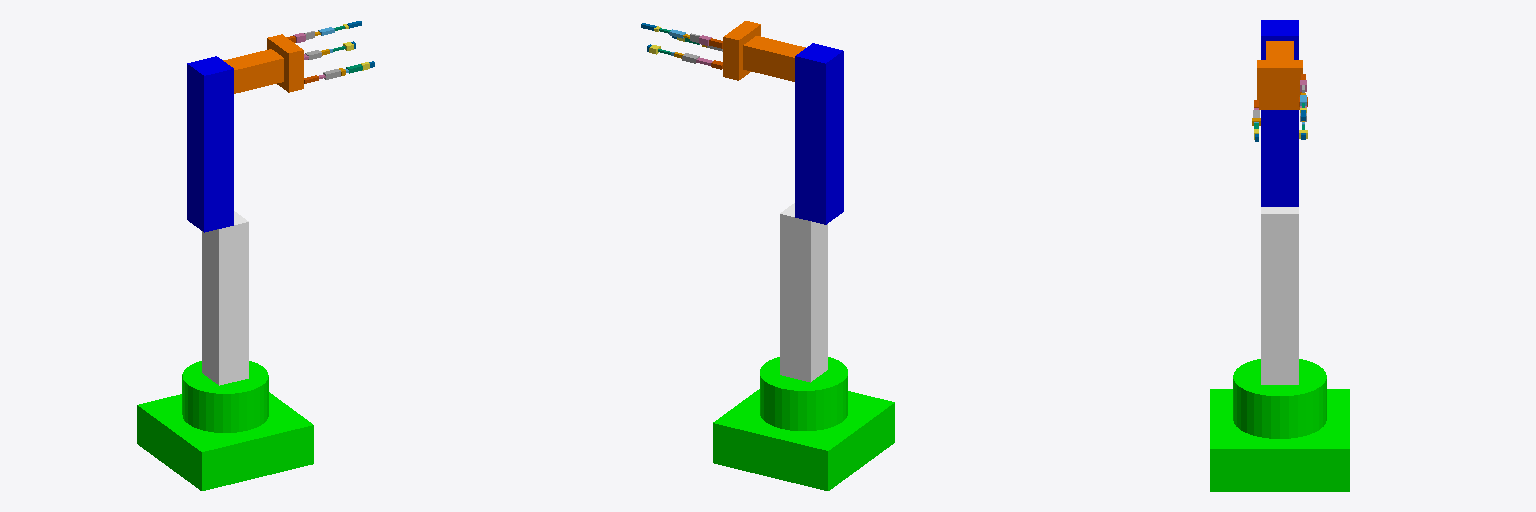
robot.urdf — robot:
<?xml version='1.0' encoding='utf-8'?>
<robot name="robot">
  <link name="base_link">
    <visual>
      <origin xyz="0 0 0.125" rpy="0 0 0" />
      <geometry>
        <box size="0.75 0.75 0.25" />
      </geometry>
      <material name="green" />
    </visual>
    <visual>
      <origin xyz="0 0 0.375" rpy="0 0 0" />
      <geometry>
        <cylinder length="0.25" radius="0.25" />
      </geometry>
      <material name="green">
        <color rgba="0 1 0 1" />
      </material>
    </visual>
    <collision>
      <geometry>
        <box size="0.75 0.75 0.5" />
      </geometry>
    </collision>
    <inertial>
      <mass value="0.5" />
      <inertia ixx="0.034" ixy="0.0" ixz="0.0" iyy="0.034" iyz="0.0" izz="0.034" />
    </inertial>
  </link>
  <link name="support_link">
    <visual>
      <origin xyz="0 0 0.5" rpy="0 0 0" />
      <geometry>
        <box size="0.2 0.2 1" />
      </geometry>
      <material name="white">
        <color rgba="1 1 1 1" />
      </material>
    </visual>
    <collision>
      <geometry>
        <box size="0.2 0.2 1" />
      </geometry>
    </collision>
    <inertial>
      <mass value="0.1" />
      <inertia ixx="0.01" ixy="0.0" ixz="0.0" iyy="0.01" iyz="0.0" izz="0.01" />
    </inertial>
  </link>
  <joint name="support_joint" type="continuous">
    <origin xyz="0 0 0.5" rpy="0 0 0" />
    <parent link="base_link" />
    <child link="support_link" />
    <axis xyz="0 0 1" />
  </joint>
  <link name="arm_link">
    <visual>
      <origin xyz="0 0 0.5" rpy="0 0 0" />
      <geometry>
        <box size="0.2 0.2 1" />
      </geometry>
      <material name="blue">
        <color rgba="0 0 1 1" />
      </material>
    </visual>
    <collision>
      <geometry>
        <box size="0.2 0.2 1" />
      </geometry>
    </collision>
    <inertial>
      <mass value="0.1" />
      <inertia ixx="0.01" ixy="0.0" ixz="0.0" iyy="0.01" iyz="0.0" izz="0.01" />
    </inertial>
  </link>
  <joint name="arm_joint" type="revolute">
    <origin xyz="-0.1 0 1" rpy="0 0 0" />
    <parent link="support_link" />
    <child link="arm_link" />
    <axis xyz="0 1 0" />
    <limit lower="-3.14" upper="3.14" effort="1.0" velocity="1.0" />
  </joint>
  <link name="wrist_link">
    <visual>
      <origin xyz="0 0 0.25" rpy="0 0 0" />
      <geometry>
        <box size="0.15 0.15 0.5" />
      </geometry>
      <material name="orange">
        <color rgba="1 0.5 0 1" />
      </material>
    </visual>
    <collision>
      <geometry>
        <box size="0.15 0.15 0.5" />
      </geometry>
    </collision>
    <inertial>
      <mass value="0.1" />
      <inertia ixx="0.01" ixy="0.0" ixz="0.0" iyy="0.01" iyz="0.0" izz="0.01" />
    </inertial>
  </link>
  <joint name="wrist_joint" type="fixed">
    <origin xyz="0 0 0.9" rpy="0 1.571 0" />
    <parent link="arm_link" />
    <child link="wrist_link" />
  </joint>
  <link name="palm_link">
    <visual>
      <origin xyz="0 0 0.05" rpy="0 0 0" />
      <geometry>
        <box size="0.25 0.25 0.1" />
      </geometry>
      <material name="orange" />
    </visual>
    <collision>
      <geometry>
        <box size="0.25 0.25 0.1" />
      </geometry>
    </collision>
    <inertial>
      <mass value="0.1" />
      <inertia ixx="0.01" ixy="0.0" ixz="0.0" iyy="0.01" iyz="0.0" izz="0.01" />
    </inertial>
  </link>
  <joint name="palm_joint" type="fixed">
    <origin xyz="0 0 0.45" rpy="0 0 0" />
    <parent link="wrist_link" />
    <child link="palm_link" />
  </joint>
  <link name="finger_link_0_0">
    <visual>
      <origin xyz="0 0 0.0475" rpy="0 0 0" />
      <geometry>
        <box size="0.023 0.028 0.095" />
      </geometry>
    </visual>
    <collision>
      <geometry>
        <box size="0.023 0.028 0.095" />
      </geometry>
    </collision>
    <inertial>
      <mass value="0.018" />
      <inertia ixx="0.0" iyy="0.0" izz="0.0" ixy="0" ixz="0" iyz="0" />
    </inertial>
  </link>
  <joint name="finger_joint_palm_link_to_finger_link_0_0" type="revolute">
    <origin xyz="0.075 -0.125 0.1" rpy="0 0 0" />
    <parent link="palm_link" />
    <child link="finger_link_0_0" />
    <axis xyz="1.0 0.0 0.0" />
    <limit lower="-3.142" upper="3.142" effort="10" velocity="10" />
  </joint>
  <link name="finger_link_0_1">
    <visual>
      <origin xyz="0 0 0.0225" rpy="0 0 0" />
      <geometry>
        <box size="0.012 0.025 0.045" />
      </geometry>
    </visual>
    <collision>
      <geometry>
        <box size="0.012 0.025 0.045" />
      </geometry>
    </collision>
    <inertial>
      <mass value="0.004" />
      <inertia ixx="0.0" iyy="0.0" izz="0.0" ixy="0" ixz="0" iyz="0" />
    </inertial>
  </link>
  <joint name="finger_joint_finger_link_0_0_to_finger_link_0_1" type="revolute">
    <origin xyz="0.0 0.0 0.095" rpy="0 0 0" />
    <parent link="finger_link_0_0" />
    <child link="finger_link_0_1" />
    <axis xyz="0.0 1.0 0.0" />
    <limit lower="-3.142" upper="3.142" effort="10" velocity="10" />
  </joint>
  <link name="finger_link_0_2">
    <visual>
      <origin xyz="0 0 0.05" rpy="0 0 0" />
      <geometry>
        <box size="0.035 0.038 0.1" />
      </geometry>
    </visual>
    <collision>
      <geometry>
        <box size="0.035 0.038 0.1" />
      </geometry>
    </collision>
    <inertial>
      <mass value="0.04" />
      <inertia ixx="0.0" iyy="0.0" izz="0.0" ixy="0" ixz="0" iyz="0" />
    </inertial>
  </link>
  <joint name="finger_joint_finger_link_0_1_to_finger_link_0_2" type="revolute">
    <origin xyz="0.0 0.0 0.045" rpy="0 0 0" />
    <parent link="finger_link_0_1" />
    <child link="finger_link_0_2" />
    <axis xyz="0.0 1.0 0.0" />
    <limit lower="-3.142" upper="3.142" effort="10" velocity="10" />
  </joint>
  <link name="finger_link_0_3">
    <visual>
      <origin xyz="0 0 0.015" rpy="0 0 0" />
      <geometry>
        <box size="0.03 0.044 0.03" />
      </geometry>
    </visual>
    <collision>
      <geometry>
        <box size="0.03 0.044 0.03" />
      </geometry>
    </collision>
    <inertial>
      <mass value="0.012" />
      <inertia ixx="0.0" iyy="0.0" izz="0.0" ixy="0" ixz="0" iyz="0" />
    </inertial>
  </link>
  <joint name="finger_joint_finger_link_0_2_to_finger_link_0_3" type="revolute">
    <origin xyz="0.0 0.0 0.1" rpy="0 0 0" />
    <parent link="finger_link_0_2" />
    <child link="finger_link_0_3" />
    <axis xyz="0.0 1.0 0.0" />
    <limit lower="-3.142" upper="3.142" effort="10" velocity="10" />
  </joint>
  <link name="finger_link_0_4">
    <visual>
      <origin xyz="0 0 0.012" rpy="0 0 0" />
      <geometry>
        <box size="0.012 0.029 0.024" />
      </geometry>
    </visual>
    <collision>
      <geometry>
        <box size="0.012 0.029 0.024" />
      </geometry>
    </collision>
    <inertial>
      <mass value="0.003" />
      <inertia ixx="0.0" iyy="0.0" izz="0.0" ixy="0" ixz="0" iyz="0" />
    </inertial>
  </link>
  <joint name="finger_joint_finger_link_0_3_to_finger_link_0_4" type="revolute">
    <origin xyz="0.0 0.0 0.03" rpy="0 0 0" />
    <parent link="finger_link_0_3" />
    <child link="finger_link_0_4" />
    <axis xyz="0.0 1.0 0.0" />
    <limit lower="-3.142" upper="3.142" effort="10" velocity="10" />
  </joint>
  <link name="finger_link_0_5">
    <visual>
      <origin xyz="0 0 0.0455" rpy="0 0 0" />
      <geometry>
        <box size="0.028 0.031 0.091" />
      </geometry>
    </visual>
    <collision>
      <geometry>
        <box size="0.028 0.031 0.091" />
      </geometry>
    </collision>
    <inertial>
      <mass value="0.024" />
      <inertia ixx="0.0" iyy="0.0" izz="0.0" ixy="0" ixz="0" iyz="0" />
    </inertial>
  </link>
  <joint name="finger_joint_finger_link_0_4_to_finger_link_0_5" type="revolute">
    <origin xyz="0.0 0.0 0.024" rpy="0 0 0" />
    <parent link="finger_link_0_4" />
    <child link="finger_link_0_5" />
    <axis xyz="0.0 1.0 0.0" />
    <limit lower="-3.142" upper="3.142" effort="10" velocity="10" />
  </joint>
  <link name="finger_link_0_6">
    <visual>
      <origin xyz="0 0 0.0255" rpy="0 0 0" />
      <geometry>
        <box size="0.037 0.023 0.051" />
      </geometry>
    </visual>
    <collision>
      <geometry>
        <box size="0.037 0.023 0.051" />
      </geometry>
    </collision>
    <inertial>
      <mass value="0.013" />
      <inertia ixx="0.0" iyy="0.0" izz="0.0" ixy="0" ixz="0" iyz="0" />
    </inertial>
  </link>
  <joint name="finger_joint_finger_link_0_5_to_finger_link_0_6" type="revolute">
    <origin xyz="0.0 0.0 0.091" rpy="0 0 0" />
    <parent link="finger_link_0_5" />
    <child link="finger_link_0_6" />
    <axis xyz="0.0 1.0 0.0" />
    <limit lower="-3.142" upper="3.142" effort="10" velocity="10" />
  </joint>
  <link name="finger_link_0_7">
    <visual>
      <origin xyz="0 0 0.017" rpy="0 0 0" />
      <geometry>
        <box size="0.029 0.021 0.034" />
      </geometry>
    </visual>
    <collision>
      <geometry>
        <box size="0.029 0.021 0.034" />
      </geometry>
    </collision>
    <inertial>
      <mass value="0.006" />
      <inertia ixx="0.0" iyy="0.0" izz="0.0" ixy="0" ixz="0" iyz="0" />
    </inertial>
  </link>
  <joint name="finger_joint_finger_link_0_6_to_finger_link_0_7" type="revolute">
    <origin xyz="0.0 0.0 0.051" rpy="0 0 0" />
    <parent link="finger_link_0_6" />
    <child link="finger_link_0_7" />
    <axis xyz="0.0 1.0 0.0" />
    <limit lower="-3.142" upper="3.142" effort="10" velocity="10" />
  </joint>
  <link name="finger_link_1_0">
    <visual>
      <origin xyz="0 0 0.034" rpy="0 0 0" />
      <geometry>
        <box size="0.027 0.044 0.068" />
      </geometry>
    </visual>
    <collision>
      <geometry>
        <box size="0.027 0.044 0.068" />
      </geometry>
    </collision>
    <inertial>
      <mass value="0.024" />
      <inertia ixx="0.0" iyy="0.0" izz="0.0" ixy="0" ixz="0" iyz="0" />
    </inertial>
  </link>
  <joint name="finger_joint_palm_link_to_finger_link_1_0" type="revolute">
    <origin xyz="0.058 0.125 0.1" rpy="0 0 0" />
    <parent link="palm_link" />
    <child link="finger_link_1_0" />
    <axis xyz="-1.0 0.0 0.0" />
    <limit lower="-3.142" upper="3.142" effort="10" velocity="10" />
  </joint>
  <link name="finger_link_1_1">
    <visual>
      <origin xyz="0 0 0.0495" rpy="0 0 0" />
      <geometry>
        <box size="0.017 0.038 0.099" />
      </geometry>
    </visual>
    <collision>
      <geometry>
        <box size="0.017 0.038 0.099" />
      </geometry>
    </collision>
    <inertial>
      <mass value="0.019" />
      <inertia ixx="0.0" iyy="0.0" izz="0.0" ixy="0" ixz="0" iyz="0" />
    </inertial>
  </link>
  <joint name="finger_joint_finger_link_1_0_to_finger_link_1_1" type="revolute">
    <origin xyz="0.0 0.0 0.068" rpy="0 0 0" />
    <parent link="finger_link_1_0" />
    <child link="finger_link_1_1" />
    <axis xyz="0.0 1.0 0.0" />
    <limit lower="-3.142" upper="3.142" effort="10" velocity="10" />
  </joint>
  <link name="finger_link_1_2">
    <visual>
      <origin xyz="0 0 0.0435" rpy="0 0 0" />
      <geometry>
        <box size="0.031 0.042 0.087" />
      </geometry>
    </visual>
    <collision>
      <geometry>
        <box size="0.031 0.042 0.087" />
      </geometry>
    </collision>
    <inertial>
      <mass value="0.034" />
      <inertia ixx="0.0" iyy="0.0" izz="0.0" ixy="0" ixz="0" iyz="0" />
    </inertial>
  </link>
  <joint name="finger_joint_finger_link_1_1_to_finger_link_1_2" type="revolute">
    <origin xyz="0.0 0.0 0.099" rpy="0 0 0" />
    <parent link="finger_link_1_1" />
    <child link="finger_link_1_2" />
    <axis xyz="0.0 1.0 0.0" />
    <limit lower="-3.142" upper="3.142" effort="10" velocity="10" />
  </joint>
  <link name="finger_link_1_3">
    <visual>
      <origin xyz="0 0 0.031" rpy="0 0 0" />
      <geometry>
        <box size="0.022 0.019 0.062" />
      </geometry>
    </visual>
    <collision>
      <geometry>
        <box size="0.022 0.019 0.062" />
      </geometry>
    </collision>
    <inertial>
      <mass value="0.008" />
      <inertia ixx="0.0" iyy="0.0" izz="0.0" ixy="0" ixz="0" iyz="0" />
    </inertial>
  </link>
  <joint name="finger_joint_finger_link_1_2_to_finger_link_1_3" type="revolute">
    <origin xyz="0.0 0.0 0.087" rpy="0 0 0" />
    <parent link="finger_link_1_2" />
    <child link="finger_link_1_3" />
    <axis xyz="0.0 1.0 0.0" />
    <limit lower="-3.142" upper="3.142" effort="10" velocity="10" />
  </joint>
  <link name="finger_link_1_4">
    <visual>
      <origin xyz="0 0 0.0105" rpy="0 0 0" />
      <geometry>
        <box size="0.021 0.012 0.021" />
      </geometry>
    </visual>
    <collision>
      <geometry>
        <box size="0.021 0.012 0.021" />
      </geometry>
    </collision>
    <inertial>
      <mass value="0.002" />
      <inertia ixx="0.0" iyy="0.0" izz="0.0" ixy="0" ixz="0" iyz="0" />
    </inertial>
  </link>
  <joint name="finger_joint_finger_link_1_3_to_finger_link_1_4" type="revolute">
    <origin xyz="0.0 0.0 0.062" rpy="0 0 0" />
    <parent link="finger_link_1_3" />
    <child link="finger_link_1_4" />
    <axis xyz="0.0 1.0 0.0" />
    <limit lower="-3.142" upper="3.142" effort="10" velocity="10" />
  </joint>
  <link name="finger_link_1_5">
    <visual>
      <origin xyz="0 0 0.042" rpy="0 0 0" />
      <geometry>
        <box size="0.013 0.015 0.084" />
      </geometry>
    </visual>
    <collision>
      <geometry>
        <box size="0.013 0.015 0.084" />
      </geometry>
    </collision>
    <inertial>
      <mass value="0.005" />
      <inertia ixx="0.0" iyy="0.0" izz="0.0" ixy="0" ixz="0" iyz="0" />
    </inertial>
  </link>
  <joint name="finger_joint_finger_link_1_4_to_finger_link_1_5" type="revolute">
    <origin xyz="0.0 0.0 0.021" rpy="0 0 0" />
    <parent link="finger_link_1_4" />
    <child link="finger_link_1_5" />
    <axis xyz="1.0 0.0 0.0" />
    <limit lower="-3.142" upper="3.142" effort="10" velocity="10" />
  </joint>
  <link name="finger_link_1_6">
    <visual>
      <origin xyz="0 0 0.023" rpy="0 0 0" />
      <geometry>
        <box size="0.032 0.047 0.046" />
      </geometry>
    </visual>
    <collision>
      <geometry>
        <box size="0.032 0.047 0.046" />
      </geometry>
    </collision>
    <inertial>
      <mass value="0.021" />
      <inertia ixx="0.0" iyy="0.0" izz="0.0" ixy="0" ixz="0" iyz="0" />
    </inertial>
  </link>
  <joint name="finger_joint_finger_link_1_5_to_finger_link_1_6" type="revolute">
    <origin xyz="0.0 0.0 0.084" rpy="0 0 0" />
    <parent link="finger_link_1_5" />
    <child link="finger_link_1_6" />
    <axis xyz="0.0 1.0 0.0" />
    <limit lower="-3.142" upper="3.142" effort="10" velocity="10" />
  </joint>
  <link name="finger_link_1_7">
    <visual>
      <origin xyz="0 0 0.0095" rpy="0 0 0" />
      <geometry>
        <box size="0.034 0.03 0.019" />
      </geometry>
    </visual>
    <collision>
      <geometry>
        <box size="0.034 0.03 0.019" />
      </geometry>
    </collision>
    <inertial>
      <mass value="0.006" />
      <inertia ixx="0.0" iyy="0.0" izz="0.0" ixy="0" ixz="0" iyz="0" />
    </inertial>
  </link>
  <joint name="finger_joint_finger_link_1_6_to_finger_link_1_7" type="revolute">
    <origin xyz="0.0 0.0 0.046" rpy="0 0 0" />
    <parent link="finger_link_1_6" />
    <child link="finger_link_1_7" />
    <axis xyz="0.0 1.0 0.0" />
    <limit lower="-3.142" upper="3.142" effort="10" velocity="10" />
  </joint>
  <link name="finger_link_2_0">
    <visual>
      <origin xyz="0 0 0.043" rpy="0 0 0" />
      <geometry>
        <box size="0.035 0.027 0.086" />
      </geometry>
    </visual>
    <collision>
      <geometry>
        <box size="0.035 0.027 0.086" />
      </geometry>
    </collision>
    <inertial>
      <mass value="0.024" />
      <inertia ixx="0.0" iyy="0.0" izz="0.0" ixy="0" ixz="0" iyz="0" />
    </inertial>
  </link>
  <joint name="finger_joint_palm_link_to_finger_link_2_0" type="revolute">
    <origin xyz="-0.073 0.125 0.1" rpy="0 0 0" />
    <parent link="palm_link" />
    <child link="finger_link_2_0" />
    <axis xyz="-1.0 0.0 0.0" />
    <limit lower="-3.142" upper="3.142" effort="10" velocity="10" />
  </joint>
  <link name="finger_link_2_1">
    <visual>
      <origin xyz="0 0 0.032" rpy="0 0 0" />
      <geometry>
        <box size="0.039 0.041 0.064" />
      </geometry>
    </visual>
    <collision>
      <geometry>
        <box size="0.039 0.041 0.064" />
      </geometry>
    </collision>
    <inertial>
      <mass value="0.031" />
      <inertia ixx="0.0" iyy="0.0" izz="0.0" ixy="0" ixz="0" iyz="0" />
    </inertial>
  </link>
  <joint name="finger_joint_finger_link_2_0_to_finger_link_2_1" type="revolute">
    <origin xyz="0.0 0.0 0.086" rpy="0 0 0" />
    <parent link="finger_link_2_0" />
    <child link="finger_link_2_1" />
    <axis xyz="0.0 1.0 0.0" />
    <limit lower="-3.142" upper="3.142" effort="10" velocity="10" />
  </joint>
  <link name="finger_link_2_2">
    <visual>
      <origin xyz="0 0 0.0325" rpy="0 0 0" />
      <geometry>
        <box size="0.042 0.013 0.065" />
      </geometry>
    </visual>
    <collision>
      <geometry>
        <box size="0.042 0.013 0.065" />
      </geometry>
    </collision>
    <inertial>
      <mass value="0.011" />
      <inertia ixx="0.0" iyy="0.0" izz="0.0" ixy="0" ixz="0" iyz="0" />
    </inertial>
  </link>
  <joint name="finger_joint_finger_link_2_1_to_finger_link_2_2" type="revolute">
    <origin xyz="0.0 0.0 0.064" rpy="0 0 0" />
    <parent link="finger_link_2_1" />
    <child link="finger_link_2_2" />
    <axis xyz="0.0 1.0 0.0" />
    <limit lower="-3.142" upper="3.142" effort="10" velocity="10" />
  </joint>
  <link name="finger_link_2_3">
    <visual>
      <origin xyz="0 0 0.019" rpy="0 0 0" />
      <geometry>
        <box size="0.011 0.026 0.038" />
      </geometry>
    </visual>
    <collision>
      <geometry>
        <box size="0.011 0.026 0.038" />
      </geometry>
    </collision>
    <inertial>
      <mass value="0.003" />
      <inertia ixx="0.0" iyy="0.0" izz="0.0" ixy="0" ixz="0" iyz="0" />
    </inertial>
  </link>
  <joint name="finger_joint_finger_link_2_2_to_finger_link_2_3" type="revolute">
    <origin xyz="0.0 0.0 0.065" rpy="0 0 0" />
    <parent link="finger_link_2_2" />
    <child link="finger_link_2_3" />
    <axis xyz="1.0 0.0 0.0" />
    <limit lower="-3.142" upper="3.142" effort="10" velocity="10" />
  </joint>
  <link name="finger_link_2_4">
    <visual>
      <origin xyz="0 0 0.044" rpy="0 0 0" />
      <geometry>
        <box size="0.022 0.039 0.088" />
      </geometry>
    </visual>
    <collision>
      <geometry>
        <box size="0.022 0.039 0.088" />
      </geometry>
    </collision>
    <inertial>
      <mass value="0.023" />
      <inertia ixx="0.0" iyy="0.0" izz="0.0" ixy="0" ixz="0" iyz="0" />
    </inertial>
  </link>
  <joint name="finger_joint_finger_link_2_3_to_finger_link_2_4" type="revolute">
    <origin xyz="0.0 0.0 0.038" rpy="0 0 0" />
    <parent link="finger_link_2_3" />
    <child link="finger_link_2_4" />
    <axis xyz="0.0 1.0 0.0" />
    <limit lower="-3.142" upper="3.142" effort="10" velocity="10" />
  </joint>
  <link name="finger_link_2_5">
    <visual>
      <origin xyz="0 0 0.037" rpy="0 0 0" />
      <geometry>
        <box size="0.012 0.019 0.074" />
      </geometry>
    </visual>
    <collision>
      <geometry>
        <box size="0.012 0.019 0.074" />
      </geometry>
    </collision>
    <inertial>
      <mass value="0.005" />
      <inertia ixx="0.0" iyy="0.0" izz="0.0" ixy="0" ixz="0" iyz="0" />
    </inertial>
  </link>
  <joint name="finger_joint_finger_link_2_4_to_finger_link_2_5" type="revolute">
    <origin xyz="0.0 0.0 0.088" rpy="0 0 0" />
    <parent link="finger_link_2_4" />
    <child link="finger_link_2_5" />
    <axis xyz="0.0 1.0 0.0" />
    <limit lower="-3.142" upper="3.142" effort="10" velocity="10" />
  </joint>
  <link name="finger_link_2_6">
    <visual>
      <origin xyz="0 0 0.0115" rpy="0 0 0" />
      <geometry>
        <box size="0.016 0.038 0.023" />
      </geometry>
    </visual>
    <collision>
      <geometry>
        <box size="0.016 0.038 0.023" />
      </geometry>
    </collision>
    <inertial>
      <mass value="0.004" />
      <inertia ixx="0.0" iyy="0.0" izz="0.0" ixy="0" ixz="0" iyz="0" />
    </inertial>
  </link>
  <joint name="finger_joint_finger_link_2_5_to_finger_link_2_6" type="revolute">
    <origin xyz="0.0 0.0 0.074" rpy="0 0 0" />
    <parent link="finger_link_2_5" />
    <child link="finger_link_2_6" />
    <axis xyz="0.0 1.0 0.0" />
    <limit lower="-3.142" upper="3.142" effort="10" velocity="10" />
  </joint>
  <link name="finger_link_2_7">
    <visual>
      <origin xyz="0 0 0.0455" rpy="0 0 0" />
      <geometry>
        <box size="0.022 0.025 0.091" />
      </geometry>
    </visual>
    <collision>
      <geometry>
        <box size="0.022 0.025 0.091" />
      </geometry>
    </collision>
    <inertial>
      <mass value="0.015" />
      <inertia ixx="0.0" iyy="0.0" izz="0.0" ixy="0" ixz="0" iyz="0" />
    </inertial>
  </link>
  <joint name="finger_joint_finger_link_2_6_to_finger_link_2_7" type="revolute">
    <origin xyz="0.0 0.0 0.023" rpy="0 0 0" />
    <parent link="finger_link_2_6" />
    <child link="finger_link_2_7" />
    <axis xyz="0.0 1.0 0.0" />
    <limit lower="-3.142" upper="3.142" effort="10" velocity="10" />
  </joint>
</robot>

--- What the picture shows (computed from the rendered views, not written in the file) ---
The picture shows the robot from 3 angles, left to right: view 1: azimuth 30°, elevation 25°; view 2: azimuth 150°, elevation 25°; view 3: azimuth 270°, elevation 25°; orthographic projection.
Model robot with 29 links and 28 joints (25 revolute, 1 continuous, 2 fixed), rooted at base_link, posed every joint at zero.
Visible links, largest first — view 1: base_link, arm_link, support_link, wrist_link, palm_link; view 2: base_link, arm_link, support_link, wrist_link, palm_link; view 3: base_link, support_link, arm_link, palm_link, wrist_link.
Boxes of the visible links, bbox=[...] form: base_link: bbox=[137, 361, 313, 490]; arm_link: bbox=[187, 56, 233, 232]; support_link: bbox=[202, 211, 248, 385]; wrist_link: bbox=[223, 49, 283, 93]; palm_link: bbox=[267, 34, 303, 92]; base_link: bbox=[713, 357, 894, 490]; arm_link: bbox=[795, 43, 843, 224]; support_link: bbox=[780, 203, 827, 382]; wrist_link: bbox=[743, 36, 805, 81]; palm_link: bbox=[723, 21, 760, 80]; base_link: bbox=[1210, 359, 1349, 491]; support_link: bbox=[1261, 207, 1298, 384]; arm_link: bbox=[1261, 20, 1298, 206]; palm_link: bbox=[1257, 60, 1302, 109]; wrist_link: bbox=[1266, 41, 1293, 59].
Size in the robot's own frame: 1.35 by 0.75 by 2.52 metres.
Geometry: primitives only (box / cylinder / sphere), no mesh files.